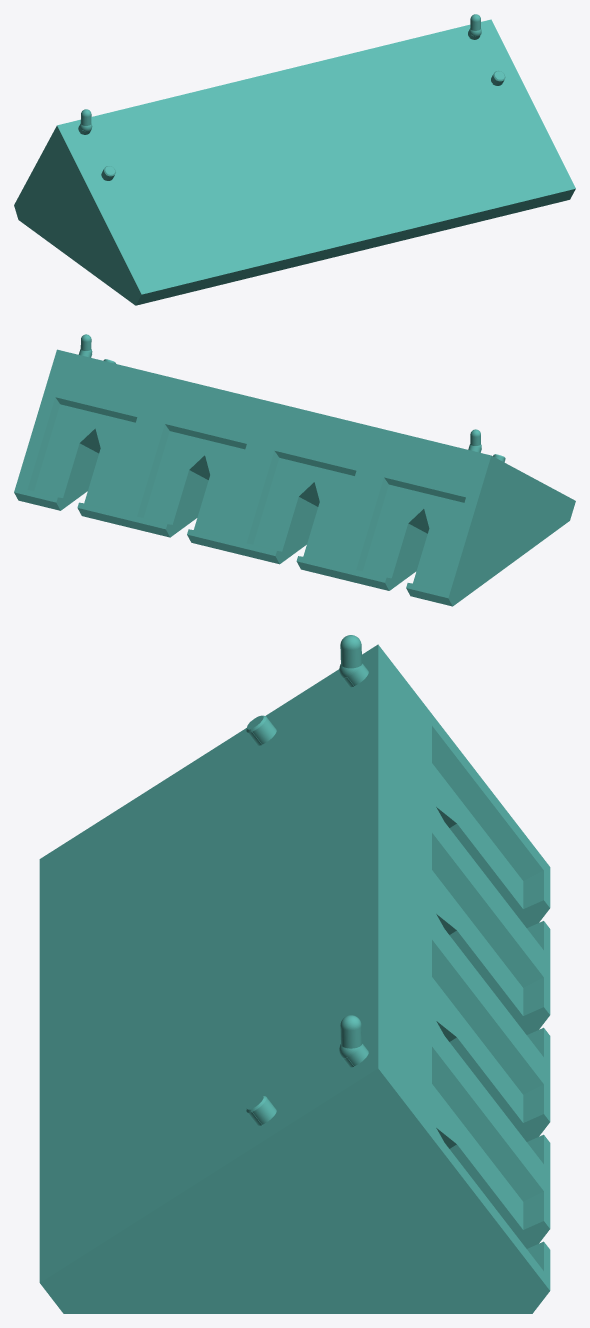
The model's file is part-sd04__v3__flat-b-print.glb.
3 views of the same model, one above another, from view 1: azimuth 30°, elevation 25°; view 2: azimuth 150°, elevation 25°; view 3: azimuth 270°, elevation 25° (orthographic). The views are drawn at different scales.
Parts seen in each view (by area): view 1: Actual holder mesh; view 2: Actual holder mesh; view 3: Actual holder mesh.
Part boxes in pixels (x1,y1,x2,y2): Actual holder mesh: (14,14,575,305); Actual holder mesh: (14,334,575,606); Actual holder mesh: (39,635,550,1313).
Size of the model in its own units: 0.2266 by 0.0688 by 0.1153.
